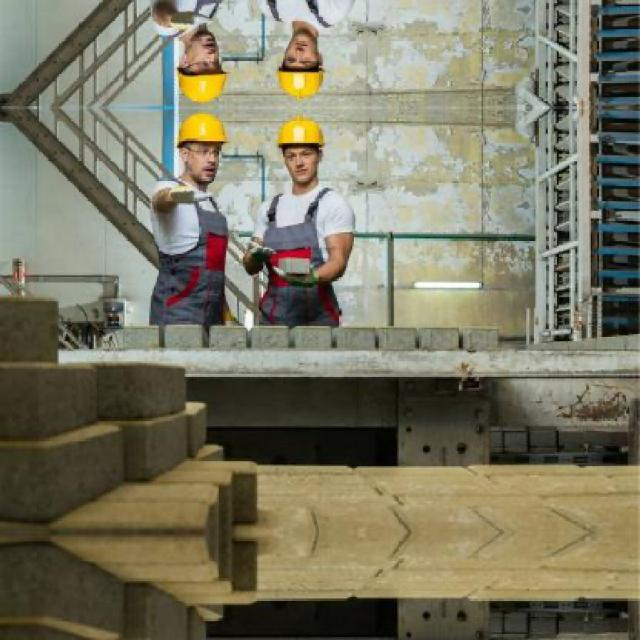helmet: (171, 106, 232, 183), (171, 29, 232, 106), (271, 109, 331, 183), (271, 29, 331, 103)
